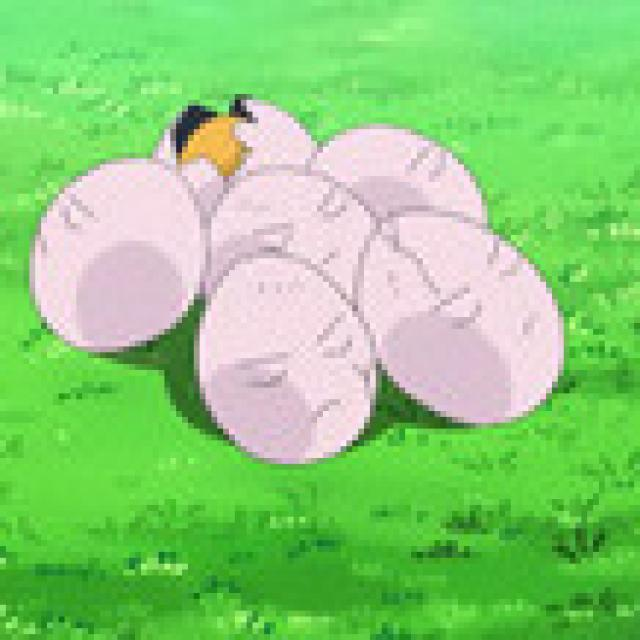Exeggcute: (25, 95, 565, 463)
